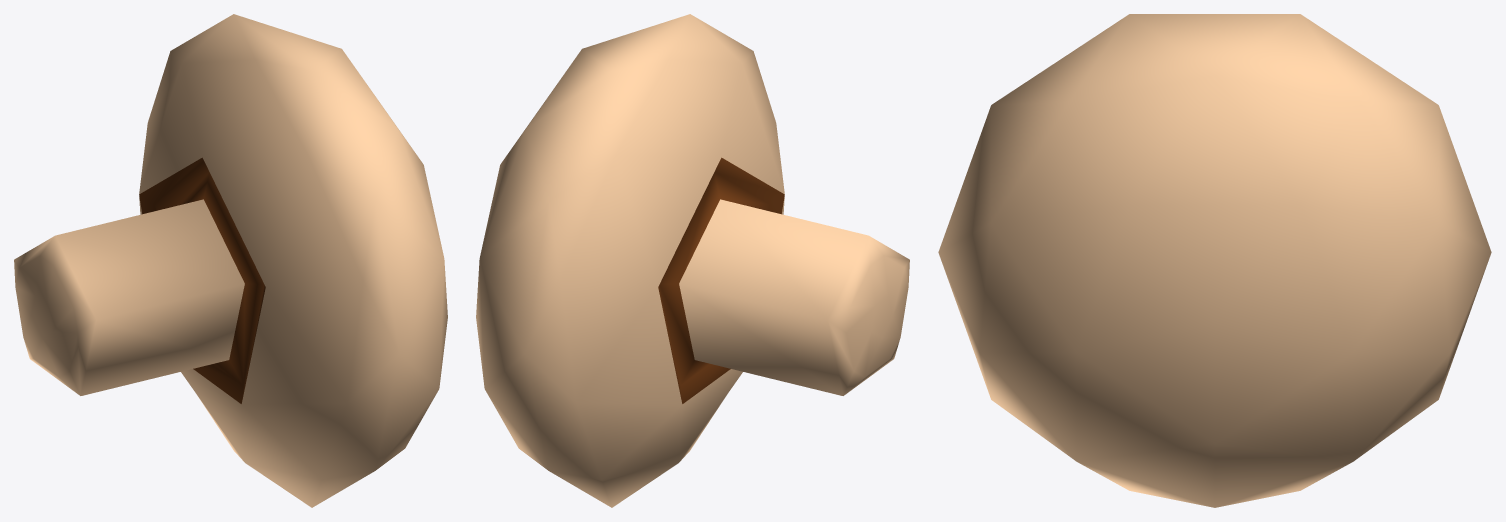
File: Mushroom.glb
3 views of the same model, side by side, from view 1: azimuth 30°, elevation 25°; view 2: azimuth 150°, elevation 25°; view 3: azimuth 270°, elevation 25° (orthographic). The views are drawn at different scales.
Visible parts, largest first — view 1: Icosphere.004; view 2: Icosphere.004; view 3: Icosphere.004.
Boxes of the visible parts, x1,y1,x2,y2 form: Icosphere.004: (14,14,447,507); Icosphere.004: (476,14,909,507); Icosphere.004: (938,14,1491,507).
Bounding box in the file's own units: 0.6487 × 0.7467 × 0.7851.
